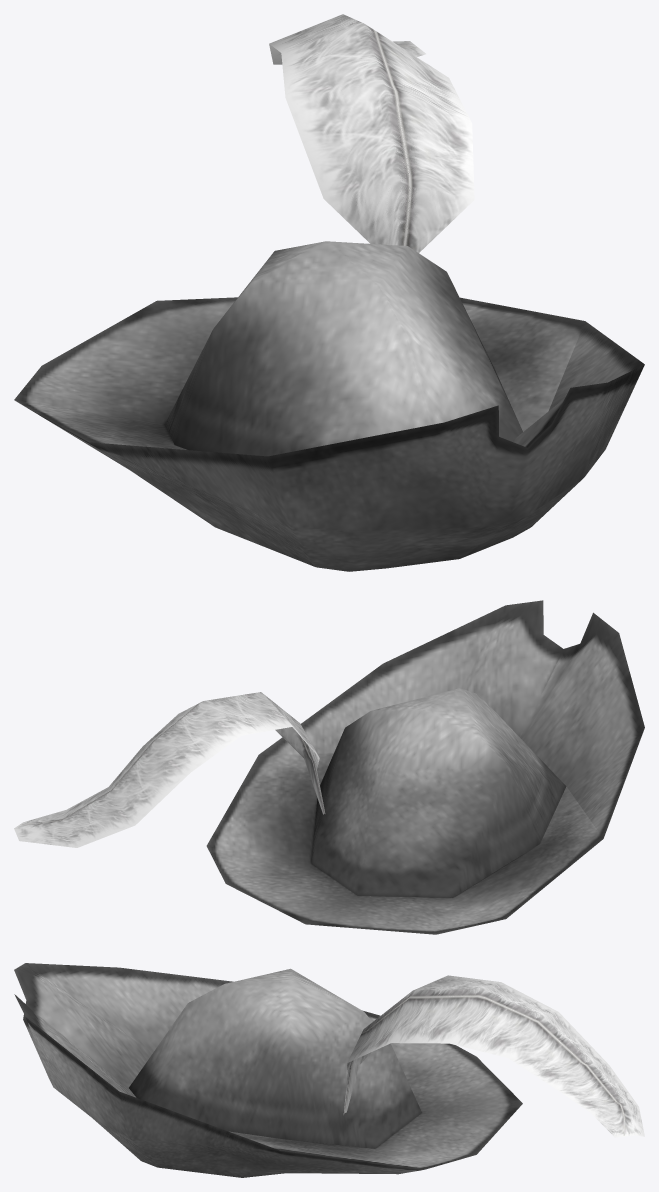
File: shop_tailor_hat_navyHatFeather.fbx
3 renders of one model, top to bottom at view 1: azimuth 30°, elevation 25°; view 2: azimuth 150°, elevation 25°; view 3: azimuth 270°, elevation 25°, orthographic. The views are drawn at different scales.
Parts seen in each view (by area): view 1: hat_navyFeathered, hat_navyFeathered_feather_bottom, hat_navyFeathered_feather_top; view 2: hat_navyFeathered, hat_navyFeathered_feather_bottom, hat_navyFeathered_feather_top; view 3: hat_navyFeathered, hat_navyFeathered_feather_bottom, hat_navyFeathered_feather_top.
Part boxes in pixels (x1=…): hat_navyFeathered: x1=14, y1=241, x2=644, y2=571; hat_navyFeathered_feather_bottom: x1=269, y1=14, x2=474, y2=252; hat_navyFeathered_feather_top: x1=269, y1=24, x2=469, y2=251; hat_navyFeathered: x1=206, y1=600, x2=644, y2=934; hat_navyFeathered_feather_bottom: x1=14, y1=692, x2=325, y2=847; hat_navyFeathered_feather_top: x1=15, y1=693, x2=322, y2=846; hat_navyFeathered: x1=14, y1=963, x2=522, y2=1177; hat_navyFeathered_feather_bottom: x1=343, y1=975, x2=644, y2=1137; hat_navyFeathered_feather_top: x1=346, y1=976, x2=642, y2=1135.
Bounding box in the file's own units: 107 × 52.99 × 148.
Materials: 2 (2 with a texture image).
